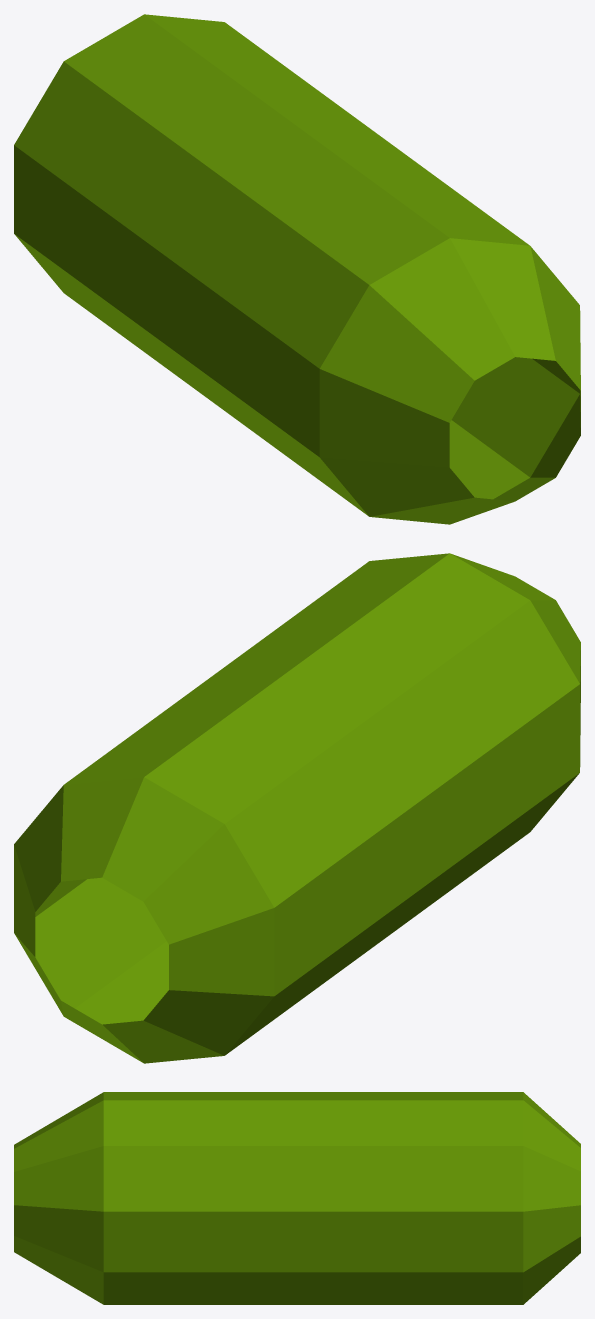
The model's file is saturn_v_sii_simple.obj.
3 renders of one model, top to bottom at view 1: azimuth 30°, elevation 25°; view 2: azimuth 150°, elevation 25°; view 3: azimuth 270°, elevation 25°, orthographic. The views are drawn at different scales.
Parts seen in each view (by area): view 1: Cylinder; view 2: Cylinder; view 3: Cylinder.
Part boxes in pixels (x1=…): Cylinder: x1=14, y1=14, x2=580, y2=524; Cylinder: x1=14, y1=553, x2=580, y2=1063; Cylinder: x1=14, y1=1092, x2=580, y2=1304.
Size of the model in its own units: 9.1 by 9.57 by 25.01.
